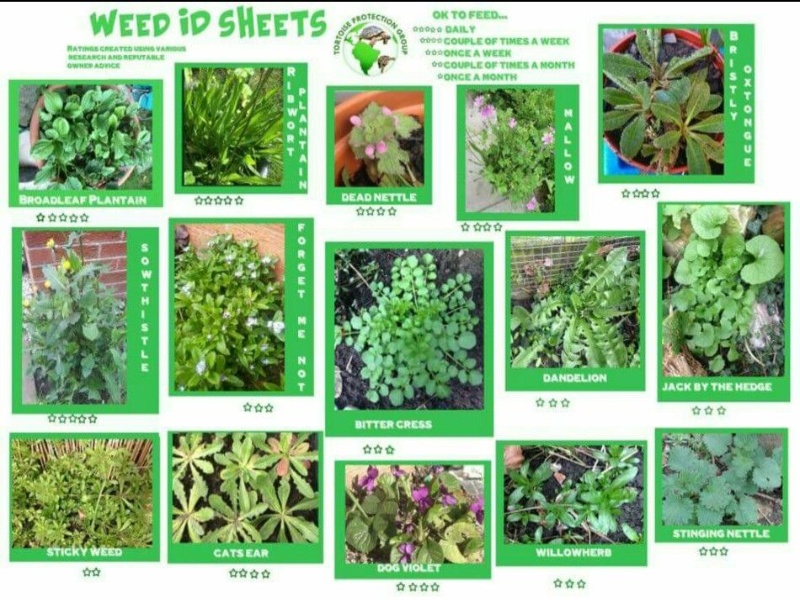weed: (352, 261, 482, 396), (675, 211, 745, 359), (549, 254, 635, 358), (42, 90, 131, 170), (617, 31, 708, 105), (664, 449, 725, 523), (711, 434, 783, 495), (356, 111, 421, 171), (663, 97, 721, 163), (607, 89, 662, 158), (492, 135, 545, 200), (260, 484, 315, 538), (346, 495, 398, 551), (426, 512, 483, 561), (737, 229, 783, 286), (226, 439, 270, 493), (585, 481, 635, 527), (213, 495, 264, 539), (168, 489, 211, 537), (265, 439, 312, 477), (544, 495, 586, 536), (171, 436, 218, 471), (514, 466, 549, 503)
